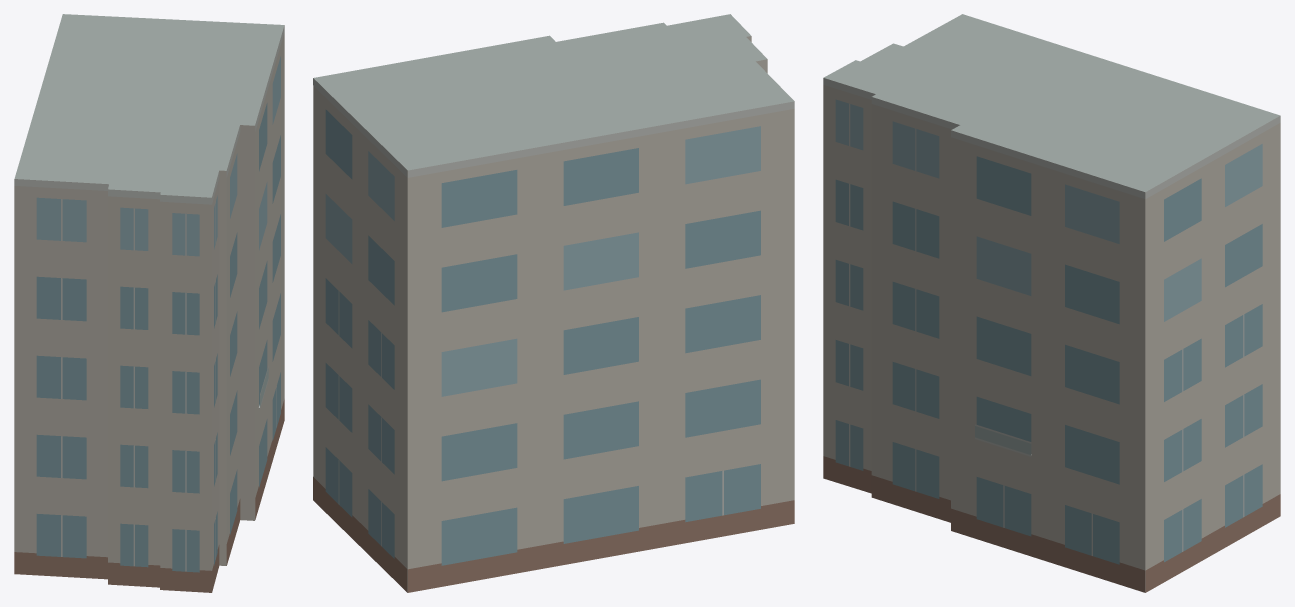
The model's file is survey-upis-32714895.glb.
3 renders of one model, left to right at view 1: azimuth 30°, elevation 25°; view 2: azimuth 150°, elevation 25°; view 3: azimuth 270°, elevation 25°, orthographic. The views are drawn at different scales.
Visible parts, largest first — view 1: survey-upis-32714895.tmp; view 2: survey-upis-32714895.tmp; view 3: survey-upis-32714895.tmp.
Boxes of the visible parts, x1,y1,x2,y2 form: survey-upis-32714895.tmp: (14, 14, 284, 592); survey-upis-32714895.tmp: (313, 14, 794, 592); survey-upis-32714895.tmp: (823, 14, 1280, 592).
Bounding box in the file's own units: 13.32 × 13.95 × 14.44.
